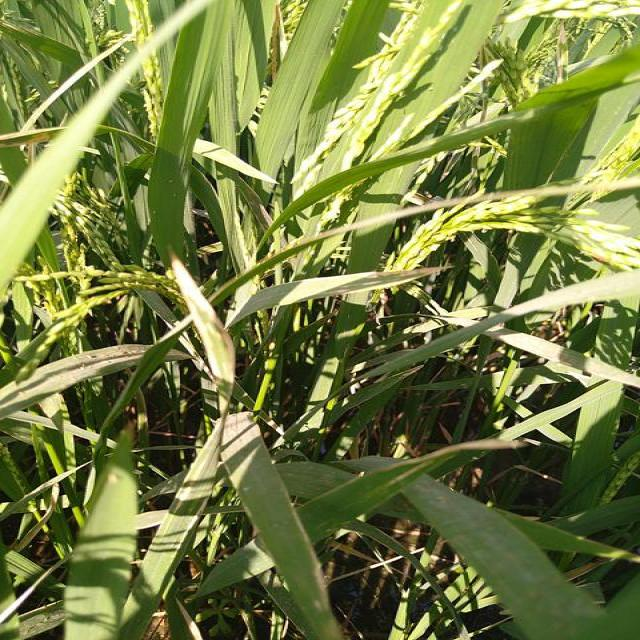Leaf Blight: (173, 257, 233, 383), (275, 269, 443, 314), (384, 440, 539, 486)
